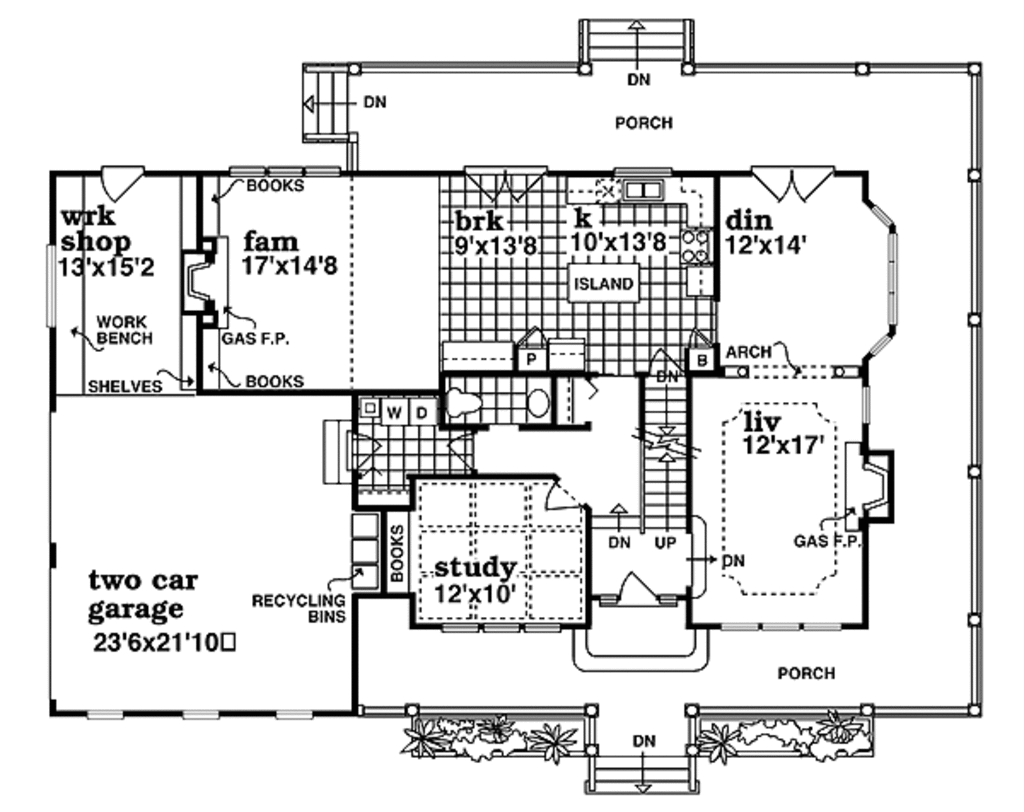door: (744, 165, 842, 202), (96, 163, 148, 204), (614, 567, 659, 607), (536, 475, 582, 512)
large_sink: (439, 384, 485, 430)
small_sink: (524, 372, 555, 430)
stairs: (630, 365, 693, 546), (574, 12, 699, 83), (585, 731, 699, 800), (296, 59, 387, 145)
twin_sink: (620, 178, 670, 207)
windows: (435, 617, 563, 637), (224, 164, 341, 182), (716, 619, 843, 635), (885, 231, 899, 326), (46, 240, 59, 331), (82, 701, 128, 724), (178, 704, 224, 727), (268, 704, 314, 724)
